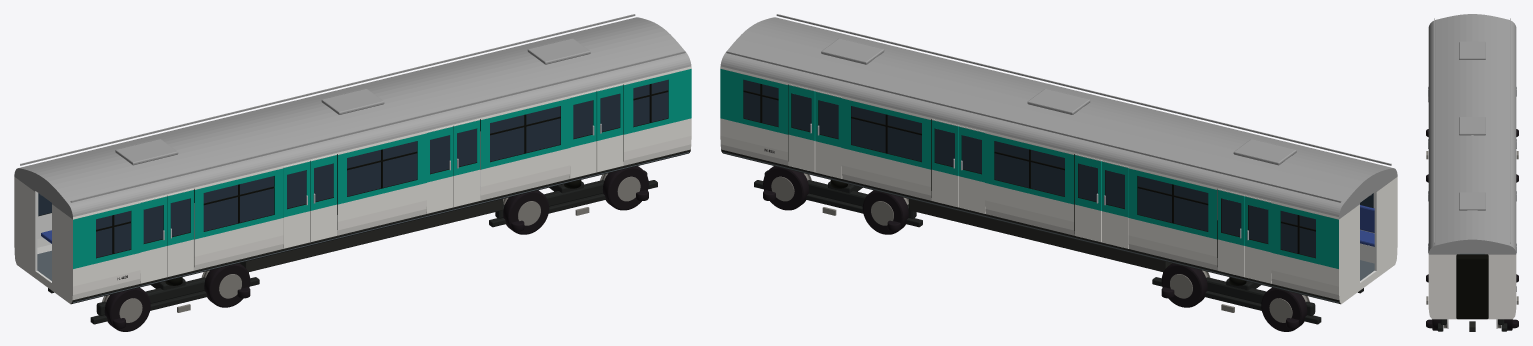
File: mp59_car.glb
3 views of the same model, side by side, from view 1: azimuth 30°, elevation 25°; view 2: azimuth 150°, elevation 25°; view 3: azimuth 270°, elevation 25° (orthographic). The views are drawn at different scales.
Parts seen in each view (by area): view 1: mp59_car_neutral; view 2: mp59_car_neutral; view 3: mp59_car_neutral.
Boxes of the visible parts, <box> form: mp59_car_neutral: <box>14,14,691,331</box>; mp59_car_neutral: <box>720,14,1397,331</box>; mp59_car_neutral: <box>1426,14,1518,331</box>.
Bounding box in the file's own units: 15.25 × 3.48 × 2.6.
5 materials, 3 textured.
